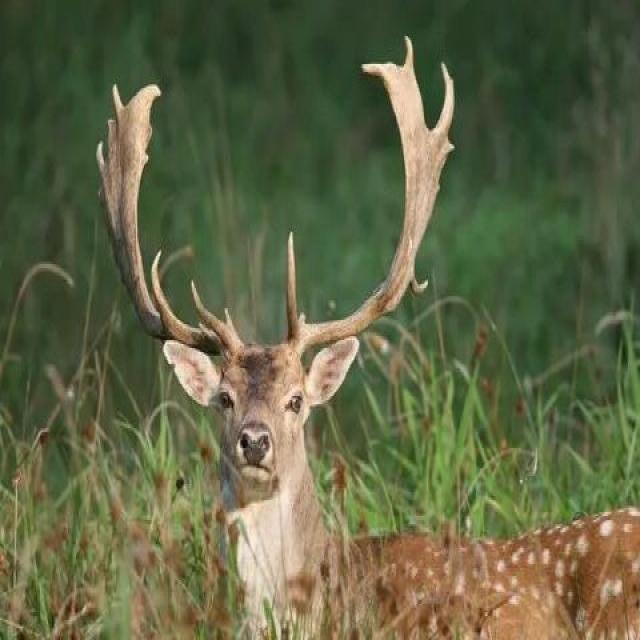deer: (89, 45, 626, 640)
